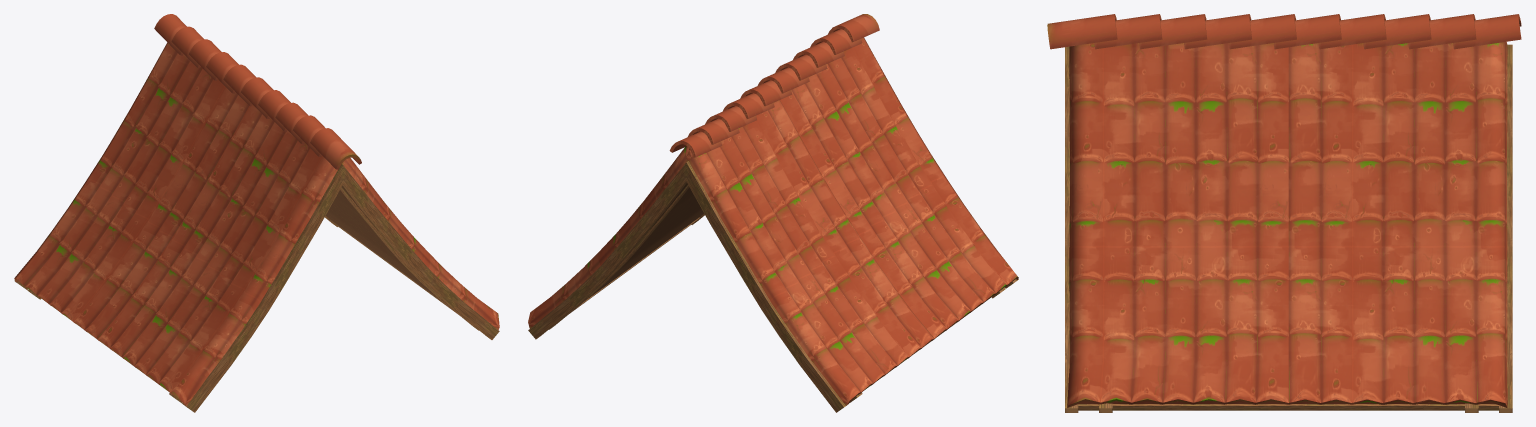
File: Roof_RoundTiles_6x6.gltf
The picture shows the model from 3 angles, left to right: view 1: azimuth 30°, elevation 25°; view 2: azimuth 150°, elevation 25°; view 3: azimuth 270°, elevation 25°; orthographic projection. The views are drawn at different scales.
Visible parts, largest first — view 1: Roof_RoundTiles_6x6; view 2: Roof_RoundTiles_6x6; view 3: Roof_RoundTiles_6x6.
Boxes of the visible parts, x1,y1,x2,y2 form: Roof_RoundTiles_6x6: (14,14,499,412); Roof_RoundTiles_6x6: (528,14,1018,412); Roof_RoundTiles_6x6: (1047,14,1521,412).
Size of the model in its own units: 8.25 by 5.67 by 8.03.
2 materials, 2 textured.
